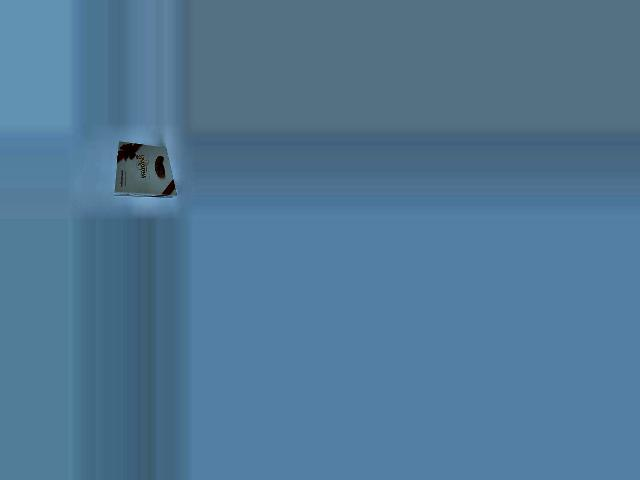chocolate: (116, 140, 179, 209)
